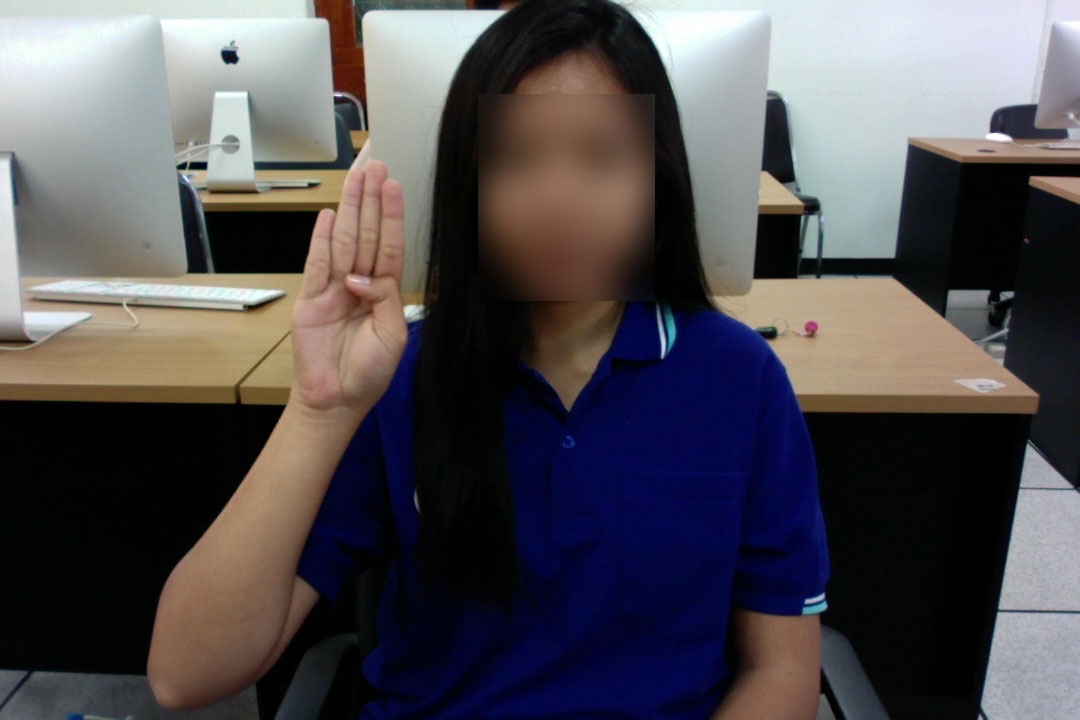bor: (282, 151, 412, 432)
